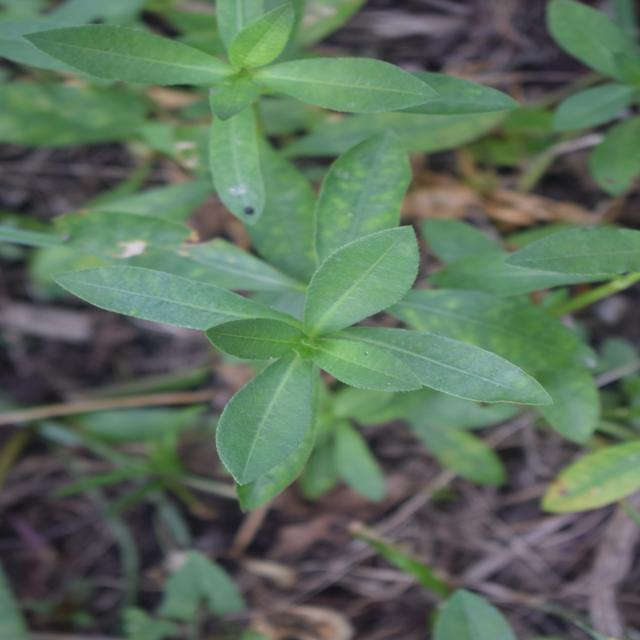Alligatorweed: (142, 57, 452, 523)
